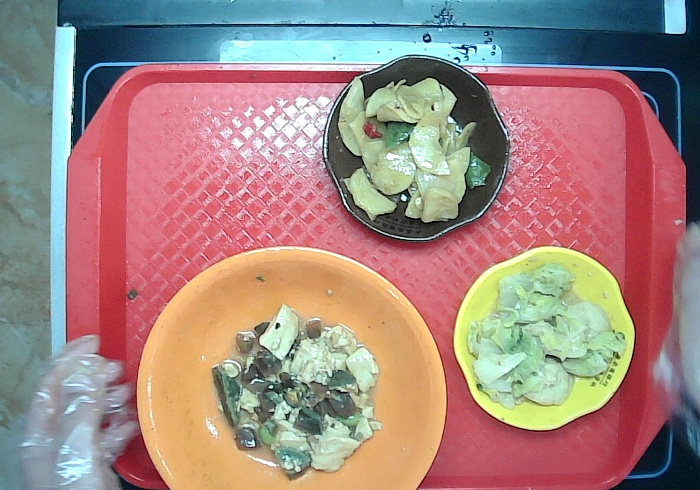YKMZ-Huang_Se_Ao_Bian_Wan: (454, 244, 640, 433)
YKMZ-Ju_Se_Tang_Wan: (135, 244, 447, 490)
YKMZ-Ka_Fei_Ao_Bian_Wan: (322, 55, 513, 243)
